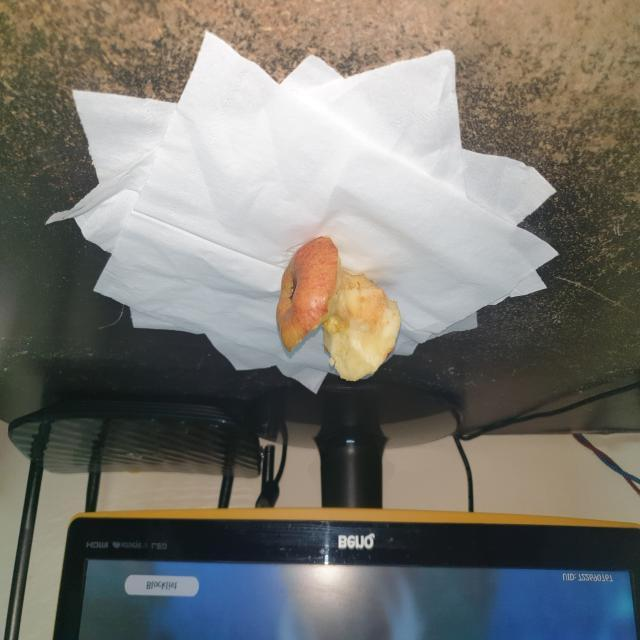apple: (270, 230, 406, 387)
